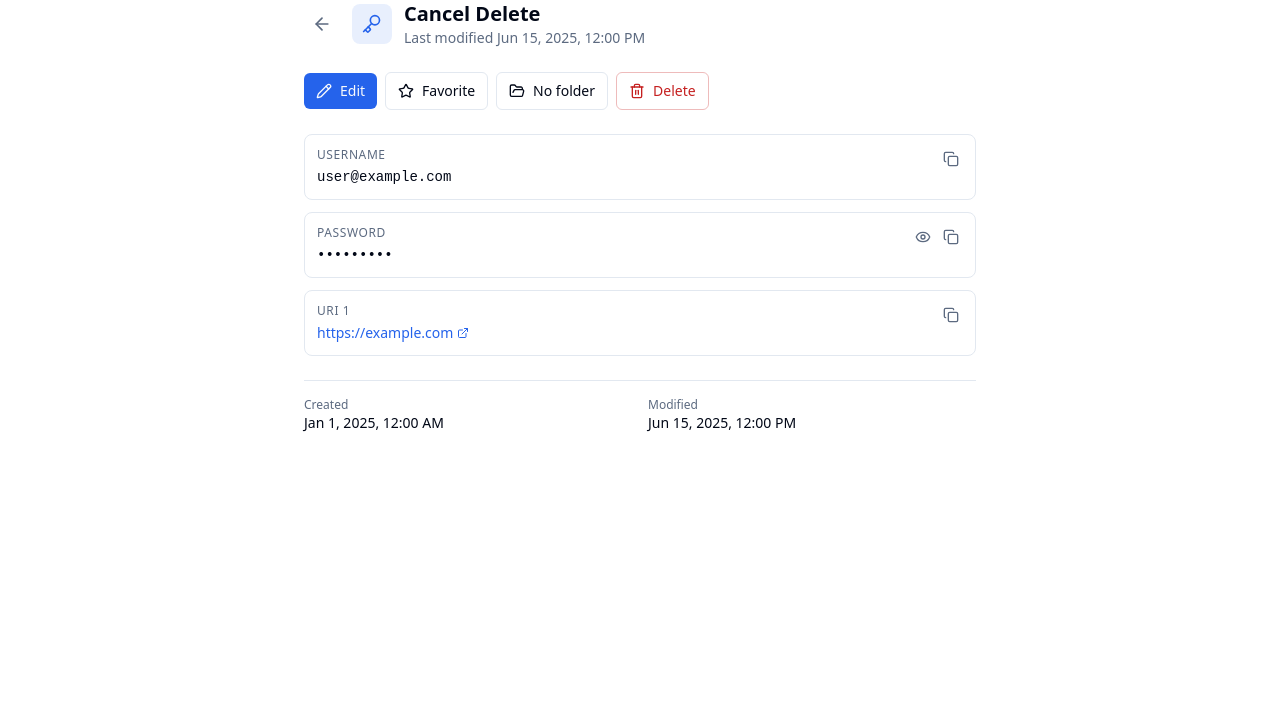
Test: VaultItemDetail › Delete flow › closes confirmation dialog on Cancel
Click the button "Delete".
click(662, 91)  # box [616, 72, 709, 110]
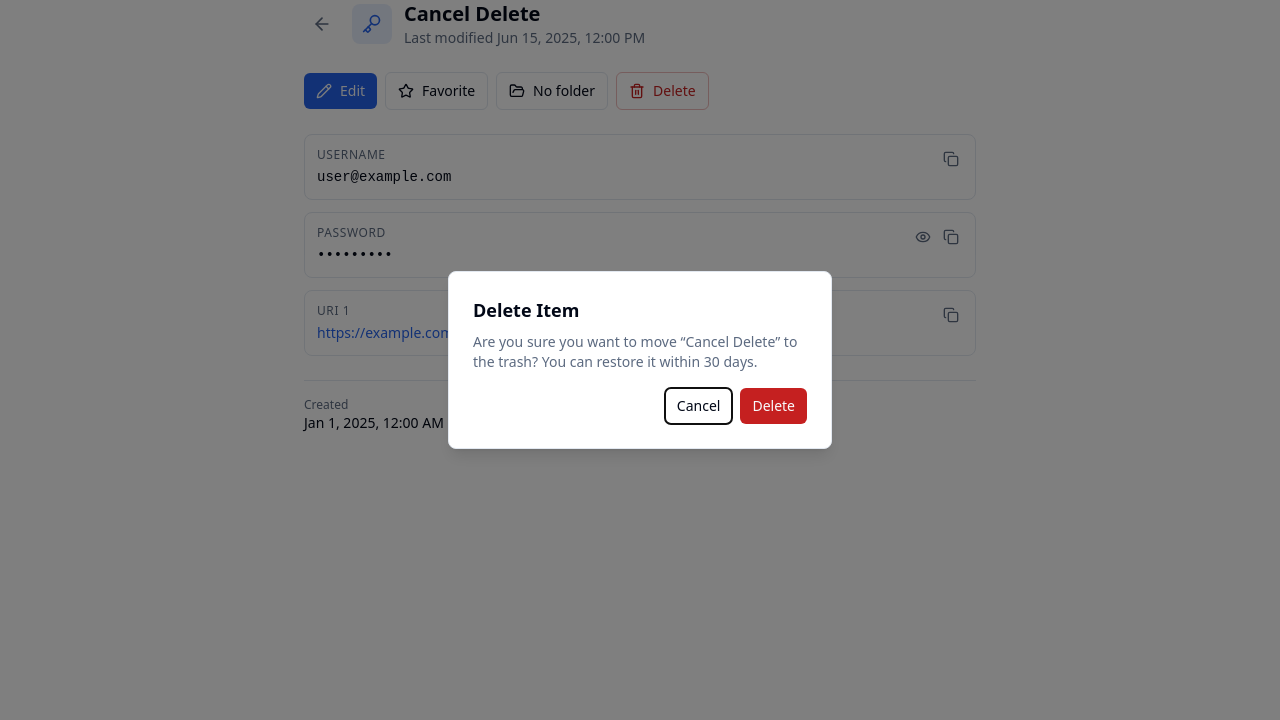
Check: the dialog is shown, box [448, 271, 832, 449]
Click the button "Cancel".
click(699, 406)  # box [665, 388, 732, 424]
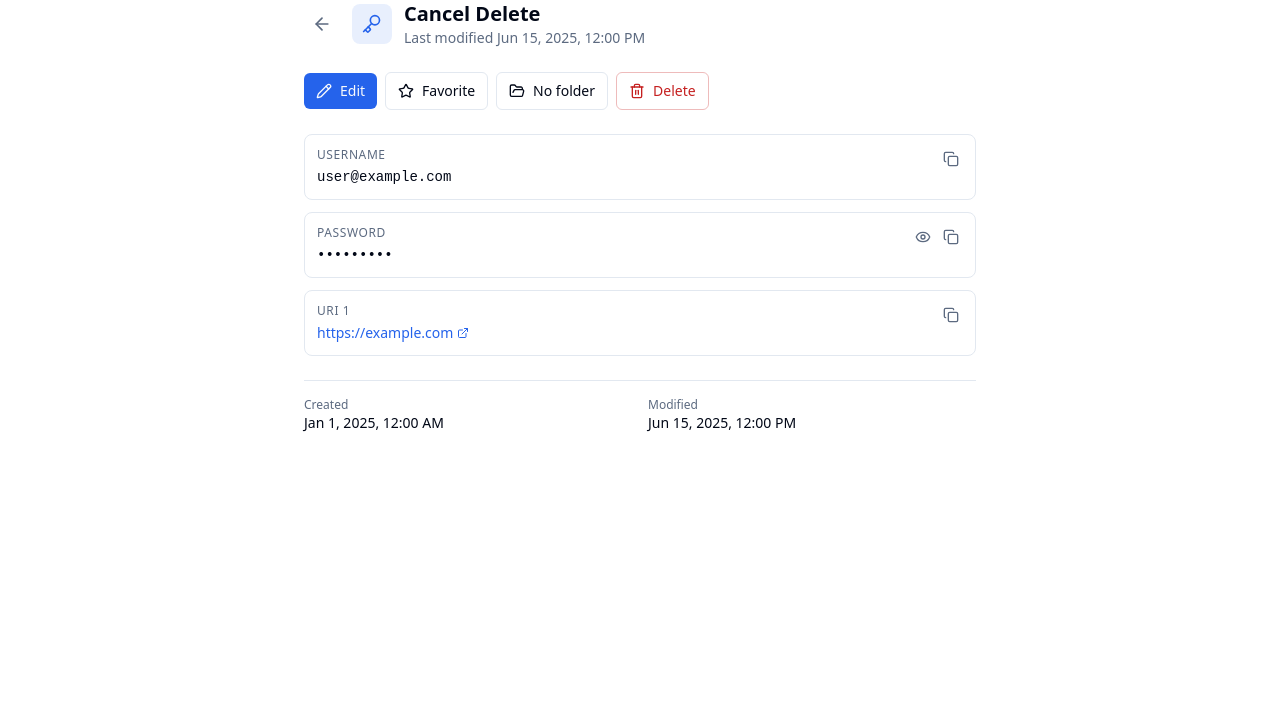
Check: the dialog is gone
